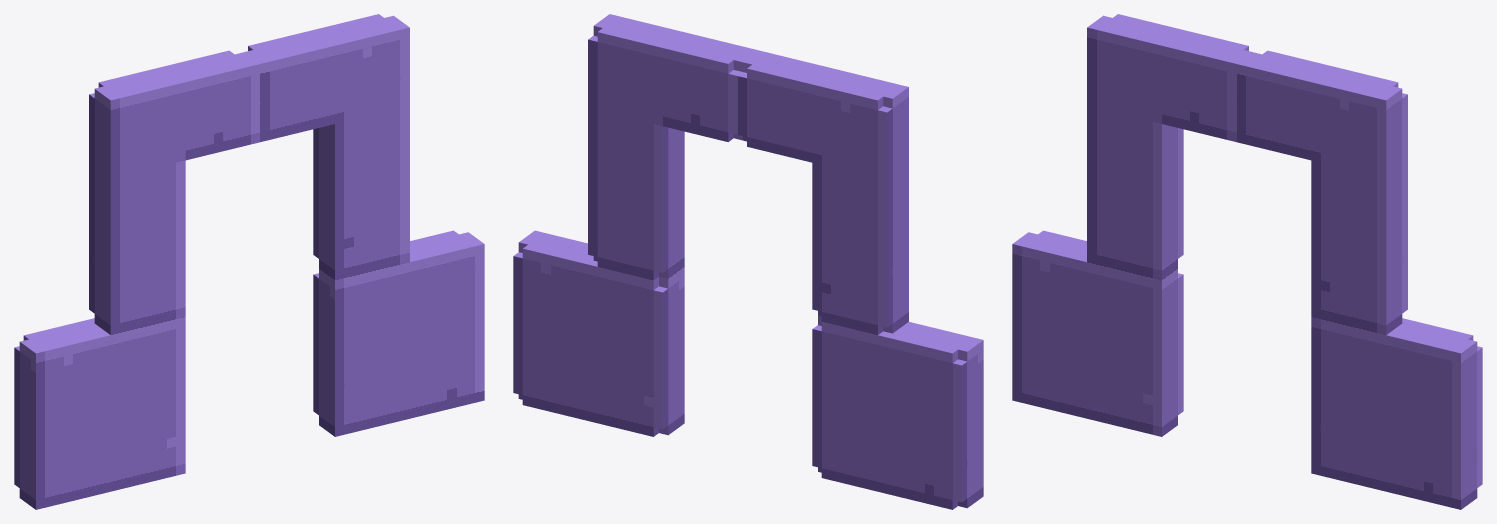
File: zu_door_frameao.fezao.glb
3 views of the same model, side by side, from view 1: azimuth 30°, elevation 25°; view 2: azimuth 150°, elevation 25°; view 3: azimuth 330°, elevation 25° (orthographic).
Visible parts, largest first — view 1: ZU_DOOR_FRAMEAO; view 2: ZU_DOOR_FRAMEAO; view 3: ZU_DOOR_FRAMEAO.
Boxes of the visible parts, <box> form: ZU_DOOR_FRAMEAO: <box>14,14,484,509</box>; ZU_DOOR_FRAMEAO: <box>513,14,983,509</box>; ZU_DOOR_FRAMEAO: <box>1012,14,1482,509</box>.
Bounding box in the file's own units: 3 × 2.5 × 0.25.
Materials: 1 (1 with a texture image).
